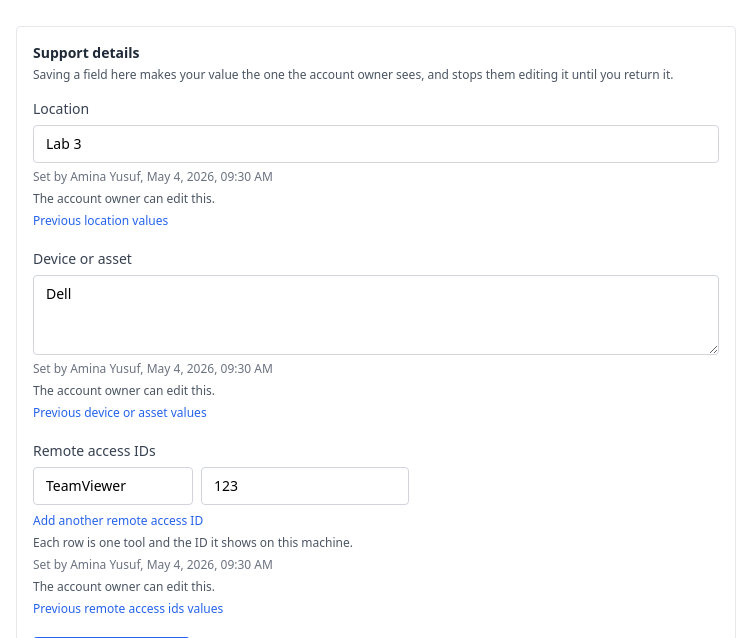
Test: UserProfilePage › UP-003: reports each field's outcome on that field, with no page-level failure banner
This screenshot has width=753, height=638.
Replace the text in the field labelled "Location" with "Lab 4" at {"x": 376, "y": 144}, box [33,125,719,163]
(page scrolled)
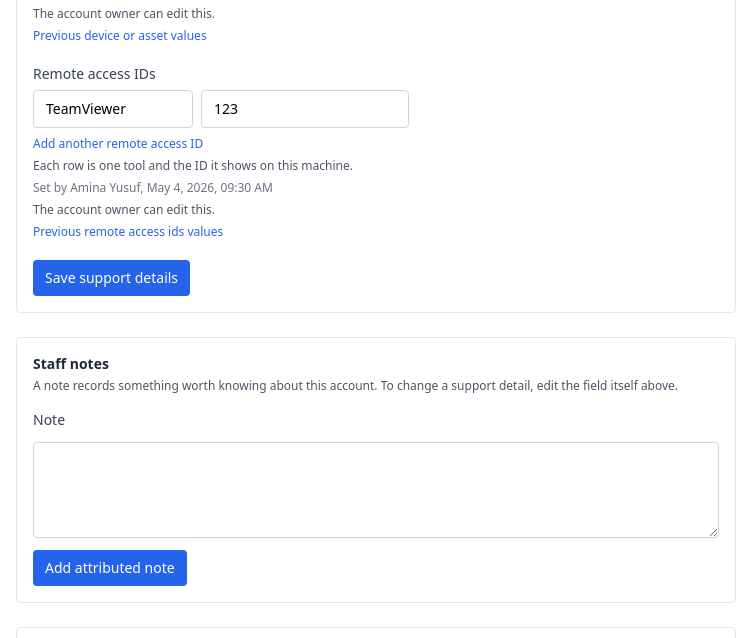
Click the button "Save support details" at {"x": 112, "y": 278}, box [33,260,190,296]
(page scrolled)
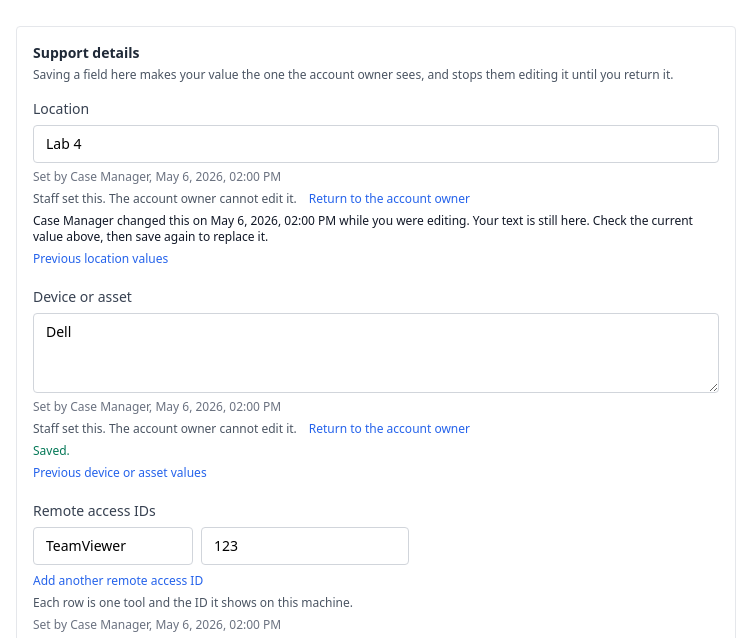
Expected: the 1st message shows "Case Manager changed this on", [33,212,693,245]
